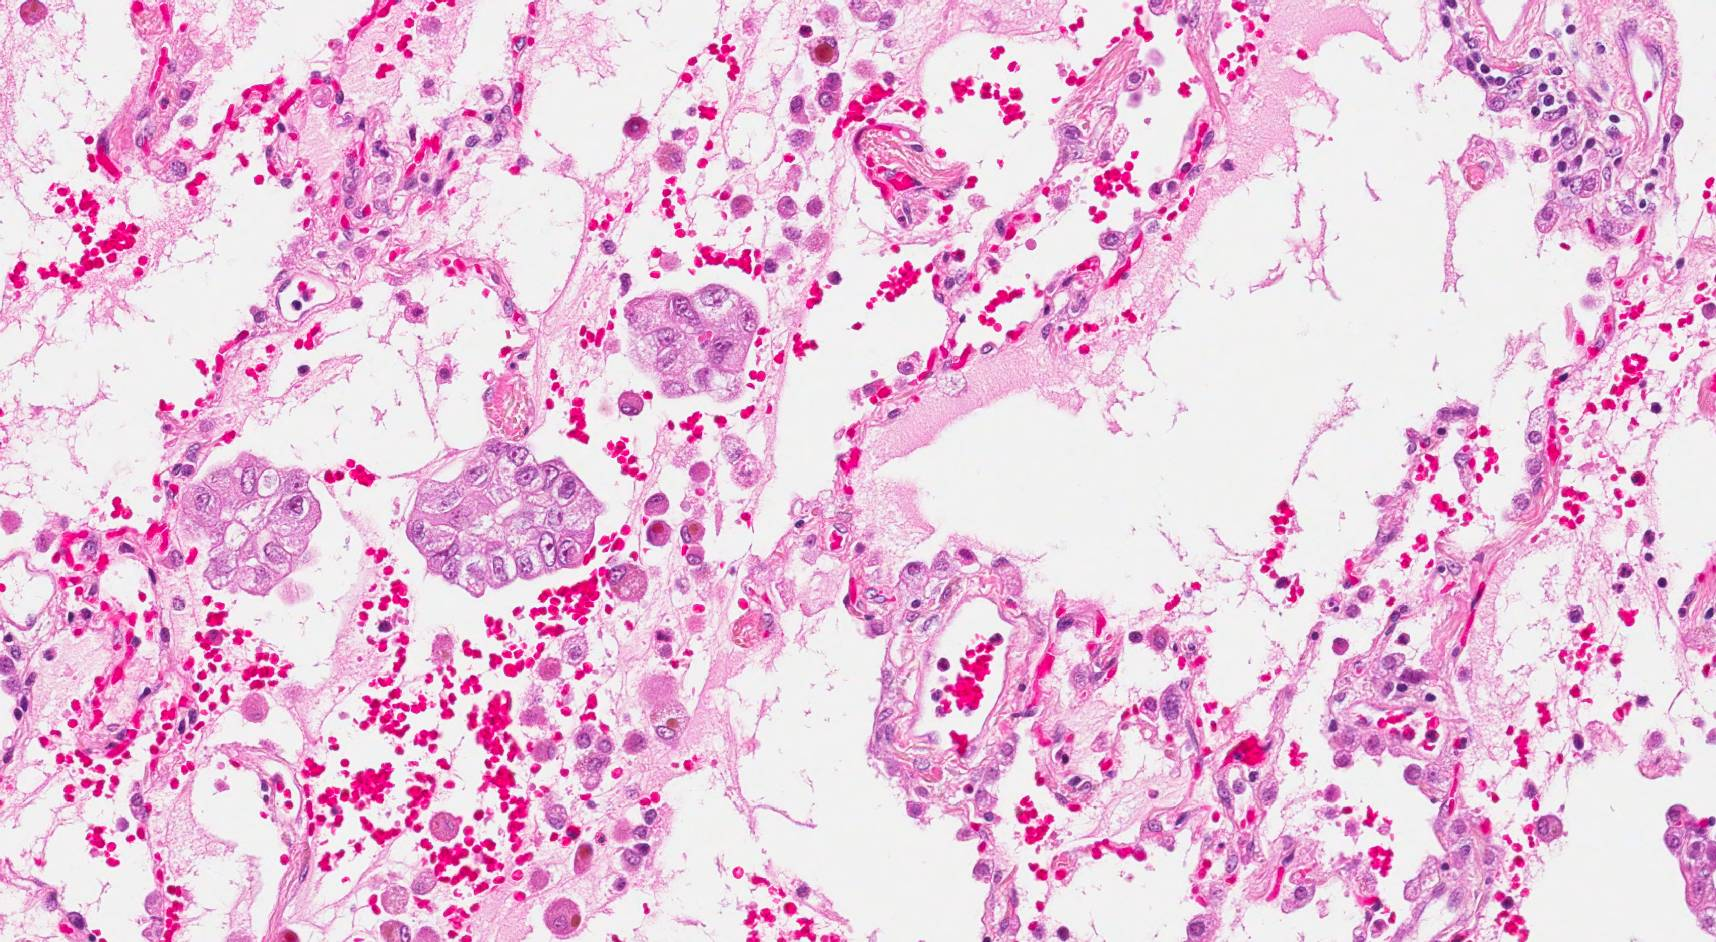stas: (401, 440, 600, 598), (179, 451, 322, 602), (624, 282, 761, 402)
